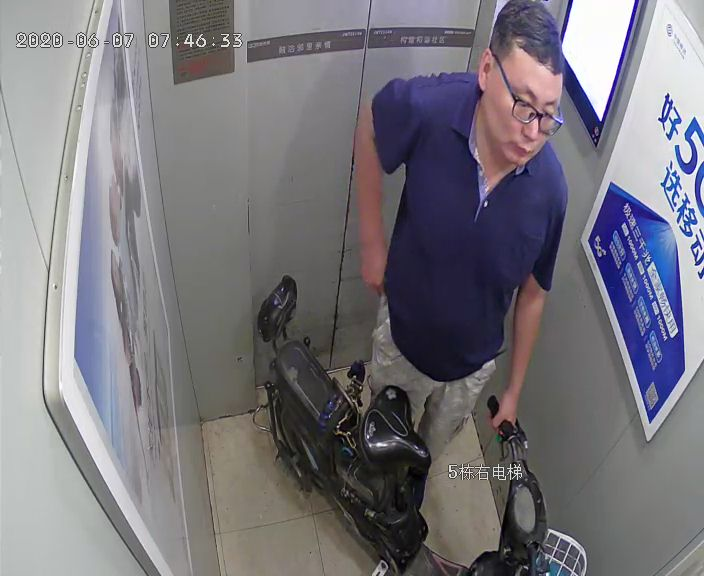Electric-bicycle: (252, 272, 585, 575)
